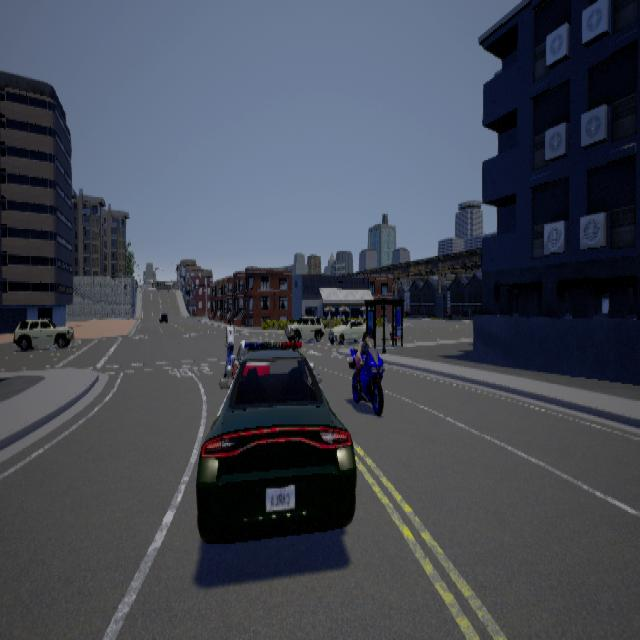bike: (223, 320, 237, 376)
motobike: (350, 343, 387, 412)
vehicle: (198, 342, 358, 542), (14, 317, 75, 350), (287, 311, 327, 342), (329, 318, 367, 344)
